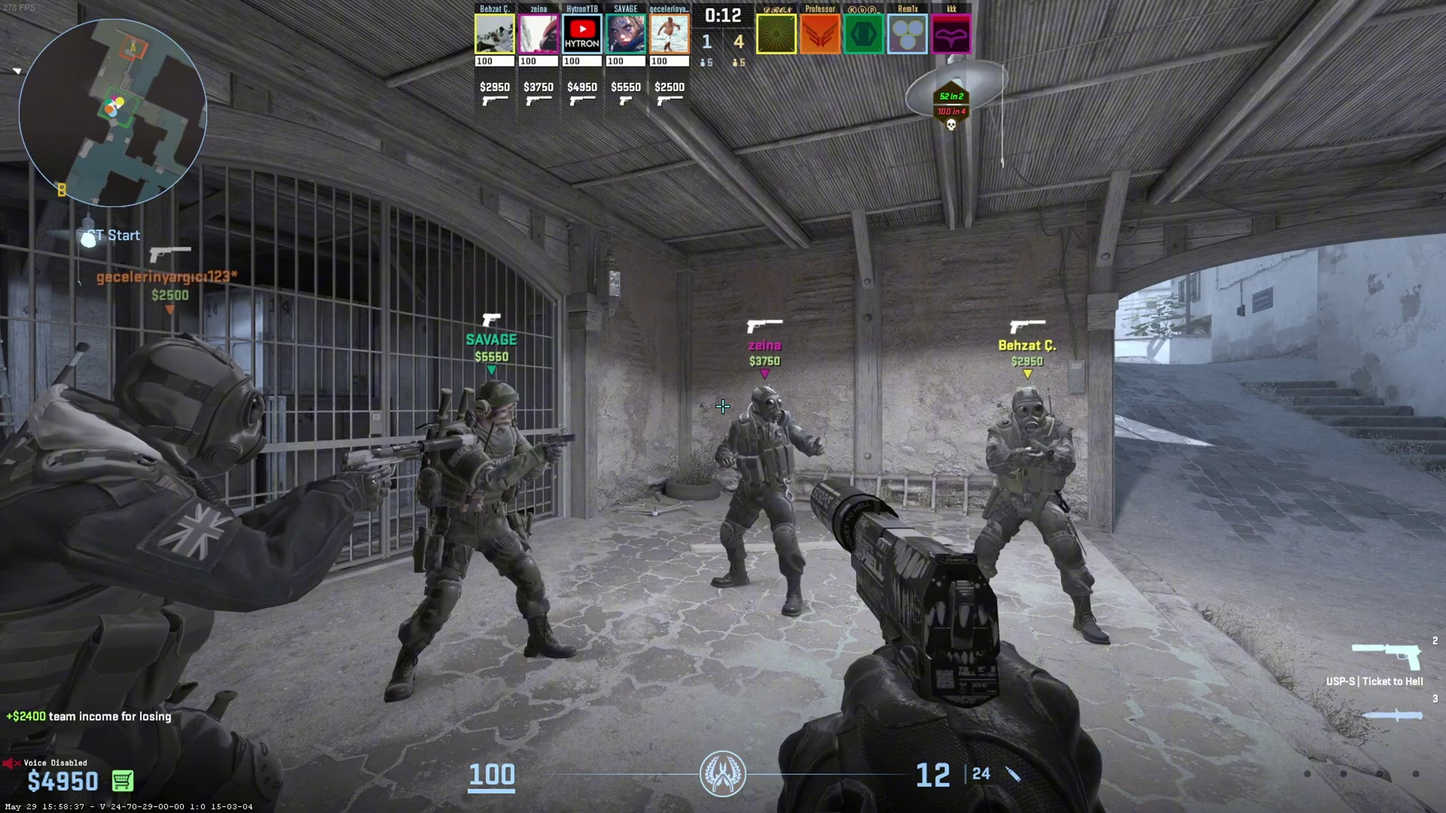CT: (3, 345, 297, 806), (397, 381, 537, 688), (978, 392, 1098, 644), (716, 388, 814, 614)
